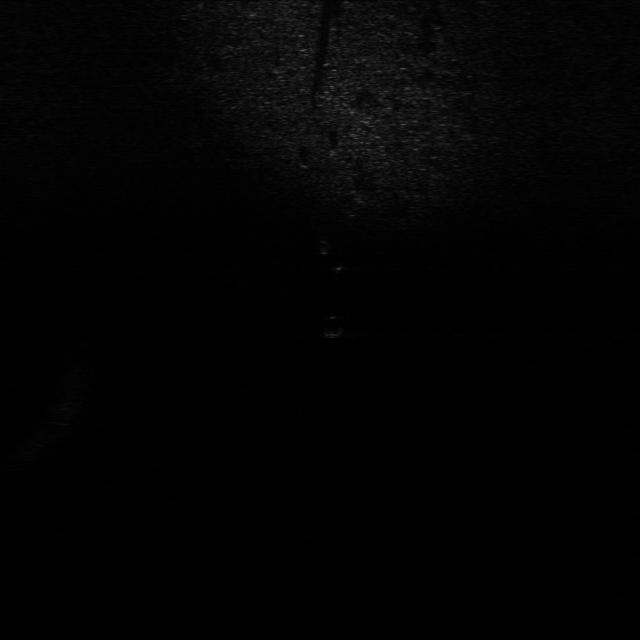ball: (318, 311, 347, 339)
human body: (316, 236, 353, 276)
